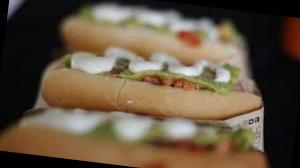Completos: (33, 37, 258, 138)
